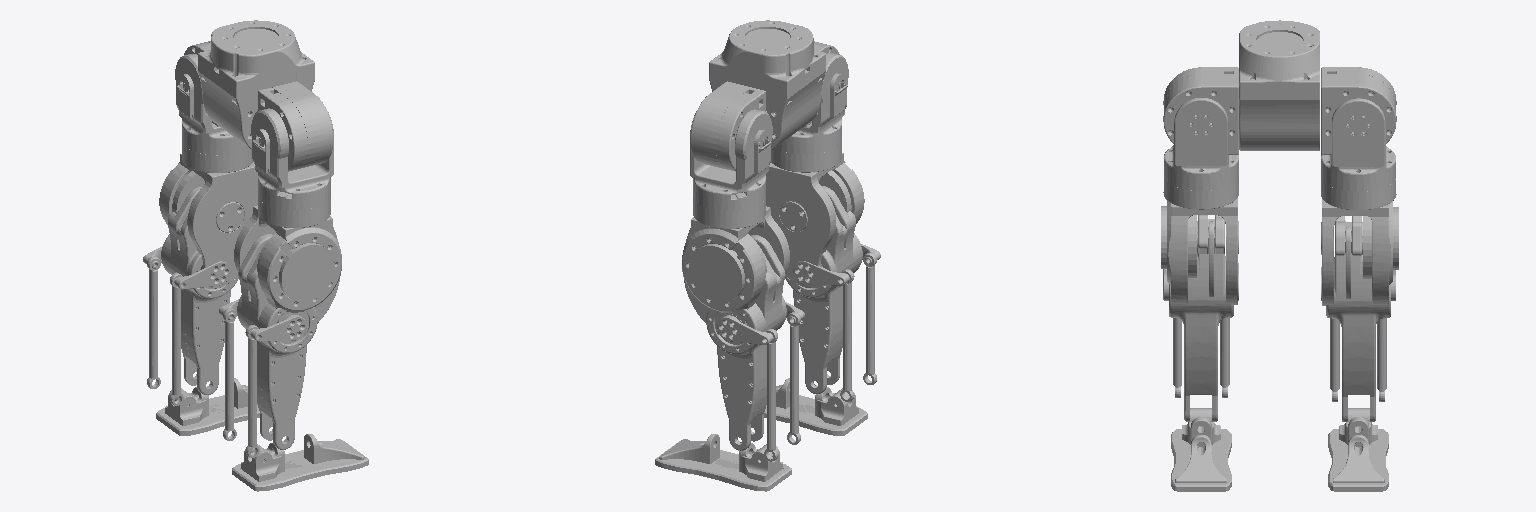
robot.urdf — QUB:
<?xml version="1.0" encoding="utf-8"?>
<!-- This URDF was automatically created by SolidWorks to URDF Exporter! Originally created by Stephen Brawner (brawner@gmail.com) 
     Commit Version: 1.6.0-4-g7f85cfe  Build Version: 1.6.7995.38578
     For more information, please see http://wiki.ros.org/sw_urdf_exporter -->
<robot
  name="QUB">
  <link name="base_link">
    <inertial>
      <origin
        xyz="0.0001 -0.00145 -0.00018"
        rpy="0 0 0" />
      <mass
        value="4.21449" />
      <inertia
        ixx="0.048051"
        ixy="0.000022089"
        ixz="-0.000049922"
        iyy="0.041201"
        iyz="0.0014077"
        izz="0.021693" />
    </inertial>
    <visual>
      <origin
        xyz="0 0 0"
        rpy="0 0 0" />
      <geometry>
        <mesh
          filename="../meshes/base_link.STL" />
      </geometry>
      <material name="">
        <color
          rgba="0.752941176470588 0.752941176470588 0.752941176470588 1" />
      </material>
    </visual>
    <!-- <collision>
      <origin
        xyz="0.0 -0.0001 0.0194"
        rpy="0 0 0" />
      <geometry>
        <box
          size="0.140 0.200 0.279" />
      </geometry>
    </collision> -->
  </link>
  <link name="pelvis_link">
    <inertial>
      <origin
        xyz="-0.00036 0.00024 0.03233"
        rpy="0 0 0" />
      <mass
        value="3.69660" />
      <inertia
        ixx="0.012187"
        ixy="-0.000011794"
        ixz="-0.000096093"
        iyy="0.011785"
        iyz="0.0000034329"
        izz="0.0075662" />
    </inertial>
    <visual>
      <origin
        xyz="0 0 0"
        rpy="0 0 0" />
      <geometry>
        <mesh
          filename="../meshes/pelvis_link.STL" />
      </geometry>
      <material name="">
        <color
          rgba="0.752941176470588 0.752941176470588 0.752941176470588 1" />
      </material>
    </visual>
    <collision>
      <origin
        xyz="0 0 0"
        rpy="0 0 0" />
      <geometry>
        <mesh
          filename="../meshes/collision/pelvis_link.STL" />
      </geometry>
    </collision>
  </link>
  <joint name="torso_yaw_joint" type="revolute">
    <origin
      xyz="0 0 -0.241618109476686"
      rpy="0 0 0" />
    <parent link="base_link" />
    <child link="pelvis_link" />
    <axis
      xyz="0 0 1" />
    <limit
      lower="-0.7854"
      upper="0.7854"
      effort="60"
      velocity="5.0" />
  </joint>
  <link name="R_hip_r_link">
    <inertial>
      <origin
        xyz="0.00347 0.00277 -0.00048"
        rpy="0 0 0" />
      <mass
        value="1.24854" />
      <inertia
        ixx="0.0018401"
        ixy="-0.00000032265"
        ixz="0.0000071076"
        iyy="0.0013999"
        iyz="0.000010876"
        izz="0.0013711" />
    </inertial>
    <visual>
      <origin
        xyz="0 0 0"
        rpy="0 0 0" />
      <geometry>
        <mesh
          filename="../meshes/R_hip_r_link.STL" />
      </geometry>
      <material name="">
        <color
          rgba="0.752941176470588 0.752941176470588 0.752941176470588 1" />
      </material>
    </visual>
    <collision>
      <origin
        xyz="0 0 0"
        rpy="0 0 0" />
      <geometry>
        <mesh
          filename="../meshes/collision/R_hip_r_link.STL" />
      </geometry>
    </collision>
  </link>
  <joint name="R_hip_pitch_joint" type="revolute">
    <origin
      xyz="0 -0.115900000000167 0"
      rpy="0 0 0" />
    <parent link="pelvis_link" />
    <child link="R_hip_r_link" />
    <axis
      xyz="0 1 0" />
    <limit
      lower="-1.5708"
      upper="0.5236"
      effort="60"
      velocity="5.0" />
  </joint>
  <link name="R_hip_y_link">
    <inertial>
      <origin
        xyz="-0.00135 -0.00025 -0.09201"
        rpy="0 0 0" />
      <mass
        value="1.32879" />
      <inertia
        ixx="0.0024344"
        ixy="0.000013039"
        ixz="-0.00013352"
        iyy="0.0027093"
        iyz="-0.000022509"
        izz="0.0019780" />
    </inertial>
    <visual>
      <origin
        xyz="0 0 0"
        rpy="0 0 0" />
      <geometry>
        <mesh
          filename="../meshes/R_hip_y_link.STL" />
      </geometry>
      <material name="">
        <color
          rgba="0.752941176470588 0.752941176470588 0.752941176470588 1" />
      </material>
    </visual>
    <collision>
      <origin
        xyz="0 0 0"
        rpy="0 0 0" />
      <geometry>
        <mesh
          filename="../meshes/collision/R_hip_y_link.STL" />
      </geometry>
    </collision>
  </link>
  <joint name="R_hip_roll_joint" type="revolute">
    <origin
      xyz="0 0 0"
      rpy="0 0 0" />
    <parent link="R_hip_r_link" />
    <child link="R_hip_y_link" />
    <axis
      xyz="1 0 0" />
    <limit
      lower="-2.4"
      upper="0"
      effort="60"
      velocity="5.0" />
  </joint>
  <link name="R_thigh_link">
    <inertial>
      <origin
        xyz="-0.00659 -0.01600 -0.00218"
        rpy="0 0 0" />
      <mass
        value="2.18164" />
      <inertia
        ixx="0.0052252"
        ixy="0.00017617"
        ixz="0.000090039"
        iyy="0.0051854"
        iyz="-0.000055426"
        izz="0.0040697" />
    </inertial>
    <visual>
      <origin
        xyz="0 0 0"
        rpy="0 0 0" />
      <geometry>
        <mesh
          filename="../meshes/R_thigh_link.STL" />
      </geometry>
      <material name="">
        <color
          rgba="0.752941176470588 0.752941176470588 0.752941176470588 1" />
      </material>
    </visual>
    <collision>
      <origin
        xyz="0 0 0"
        rpy="0 0 0" />
      <geometry>
        <mesh
          filename="../meshes/collision/R_thigh_link.STL" />
      </geometry>
    </collision>
  </link>
  <joint name="R_hip_yaw_joint" type="revolute">
    <origin
      xyz="0 0 -0.211750000000001"
      rpy="0 0 0" />
    <parent link="R_hip_y_link" />
    <child link="R_thigh_link" />
    <axis
      xyz="0 0 1" />
    <limit
      lower="-0.5236"
      upper="0.5236"
      effort="60"
      velocity="5.0" />
  </joint>
  <link name="R_calf_link">
    <inertial>
      <origin
        xyz="0.01269 0.00090 -0.10244"
        rpy="0 0 0" />
      <mass
        value="1.97157" />
      <inertia
        ixx="0.011151"
        ixy="0.000015627"
        ixz="0.0019738"
        iyy="0.011825"
        iyz="0.00018350"
        izz="0.0038490" />
    </inertial>
    <visual>
      <origin
        xyz="0 0 0"
        rpy="0 0 0" />
      <geometry>
        <mesh
          filename="../meshes/R_calf_link.STL" />
      </geometry>
      <material name="">
        <color
          rgba="0.752941176470588 0.752941176470588 0.752941176470588 1" />
      </material>
    </visual>
    <collision>
      <origin
        xyz="0 0 0"
        rpy="0 0 0" />
      <geometry>
        <mesh
          filename="../meshes/collision/R_calf_link.STL" />
      </geometry>
    </collision>
  </link>
  <joint name="R_knee_pitch_joint" type="revolute">
    <origin
      xyz="-0.0297924314284872 -0.000149999999114303 -0.0900000000000005"
      rpy="0 0 0" />
    <parent link="R_thigh_link" />
    <child link="R_calf_link" />
    <axis
      xyz="0 -1 0" />
    <limit
      lower="-1.9"
      upper="0.0"
      effort="120"
      velocity="5.0" />
  </joint>
  <link name="R_ankle_link">
    <inertial>
      <origin
        xyz="0.0 0.0 -0.00007"
        rpy="0 0 0" />
      <mass
        value="0.02200" />
      <inertia
        ixx="1.99627E-06"
        ixy="0.0"
        ixz="0.0"
        iyy="4.89237E-06"
        iyz="0.0"
        izz="5.28341E-06" />
    </inertial>
    <visual>
      <origin
        xyz="0 0 0"
        rpy="0 0 0" />
      <geometry>
        <mesh
          filename="../meshes/R_ankle_link.STL" />
      </geometry>
      <material name="">
        <color
          rgba="0.698039215686274 0.698039215686274 0.698039215686274 1" />
      </material>
    </visual>
    <collision>
      <origin
        xyz="0 0 0"
        rpy="0 0 0" />
      <geometry>
        <mesh
          filename="../meshes/collision/R_ankle_link.STL" />
      </geometry>
    </collision>
  </link>
  <joint name="R_ankle_pitch_joint" type="revolute">
    <origin
      xyz="0.0299999999901397 0.000150000000093992 -0.26800000000117"
      rpy="0 0 0" />
    <parent link="R_calf_link" />
    <child link="R_ankle_link" />
    <axis
      xyz="0 -1 0" />
    <limit
      lower="-0.5236"
      upper="0.7854"
      effort="17"
      velocity="5.0" />
  </joint>
  <link name="R_foot_link">
    <inertial>
      <origin
        xyz="0.00315 0.0 -0.02405"
        rpy="0 0 0" />
      <mass
        value="0.25200" />
      <inertia
        ixx="0.00013745"
        ixy="0.0"
        ixz="-0.000044769"
        iyy="0.00091295"
        iyz="0.0"
        izz="0.00097384" />
    </inertial>
    <visual>
      <origin
        xyz="0 0 0"
        rpy="0 0 0" />
      <geometry>
        <mesh
          filename="../meshes/R_foot_link.STL" />
      </geometry>
      <material name="">
        <color
          rgba="0.752941176470588 0.752941176470588 0.752941176470588 1" />
      </material>
    </visual>
    <collision>
      <origin
        xyz="0 0 0"
        rpy="0 0 0" />
      <geometry>
        <mesh
          filename="../meshes/collision/R_foot_link.STL" />
      </geometry>
    </collision>
  </link>
  <joint name="R_ankle_roll_joint" type="revolute">
    <origin
      xyz="0 0 0"
      rpy="0 0 0" />
    <parent link="R_ankle_link" />
    <child link="R_foot_link" />
    <axis
      xyz="1 0 0" />
    <limit
      lower="-0.3491"
      upper="0.3491"
      effort="17"
      velocity="5.0" />
  </joint>
  <link name="L_hip_r_link">
    <inertial>
      <origin
        xyz="0.00347 -0.00277 -0.00048"
        rpy="0 0 0" />
      <mass
        value="1.24854" />
      <inertia
        ixx="0.0018401"
        ixy="0.00000032265"
        ixz="0.0000071076"
        iyy="0.0013999"
        iyz="-0.000010876"
        izz="0.0013711" />
    </inertial>
    <visual>
      <origin
        xyz="0 0 0"
        rpy="0 0 0" />
      <geometry>
        <mesh
          filename="../meshes/L_hip_r_link.STL" />
      </geometry>
      <material name="">
        <color
          rgba="0.752941176470588 0.752941176470588 0.752941176470588 1" />
      </material>
    </visual>
    <collision>
      <origin
        xyz="0 0 0"
        rpy="0 0 0" />
      <geometry>
        <mesh
          filename="../meshes/collision/L_hip_r_link.STL" />
      </geometry>
    </collision>
  </link>
  <joint name="L_hip_pitch_joint" type="revolute">
    <origin
      xyz="0 0.116500000000629 0"
      rpy="0 0 0" />
    <parent link="pelvis_link" />
    <child link="L_hip_r_link" />
    <axis
      xyz="0 1 0" />
    <limit
      lower="-1.5708"
      upper="0.5236"
      effort="60"
      velocity="5.0" />
  </joint>
  <link name="L_hip_y_link">
    <inertial>
      <origin
        xyz="-0.00135 0.00025 -0.09201"
        rpy="0 0 0" />
      <mass
        value="1.32879" />
      <inertia
        ixx="0.0024344"
        ixy="-0.000013039"
        ixz="-0.00013352"
        iyy="0.0027093"
        iyz="0.000022509"
        izz="0.0019780" />
    </inertial>
    <visual>
      <origin
        xyz="0 0 0"
        rpy="0 0 0" />
      <geometry>
        <mesh
          filename="../meshes/L_hip_y_link.STL" />
      </geometry>
      <material name="">
        <color
          rgba="0.752941176470588 0.752941176470588 0.752941176470588 1" />
      </material>
    </visual>
    <collision>
      <origin
        xyz="0 0 0"
        rpy="0 0 0" />
      <geometry>
        <mesh
          filename="../meshes/collision/L_hip_y_link.STL" />
      </geometry>
    </collision>
  </link>
  <joint name="L_hip_roll_joint" type="revolute">
    <origin
      xyz="0 0 0"
      rpy="0 0 0" />
    <parent link="L_hip_r_link" />
    <child link="L_hip_y_link" />
    <axis
      xyz="1 0 0" />
    <limit
      lower="0"
      upper="2.4"
      effort="60"
      velocity="5.0" />
  </joint>
  <link name="L_thigh_link">
    <inertial>
      <origin
        xyz="-0.00659 0.01600 -0.00218"
        rpy="0 0 0" />
      <mass
        value="2.18164" />
      <inertia
        ixx="0.0052252"
        ixy="-0.00017617"
        ixz="0.000090039"
        iyy="0.0051854"
        iyz="0.000055426"
        izz="0.0040697" />
    </inertial>
    <visual>
      <origin
        xyz="0 0 0"
        rpy="0 0 0" />
      <geometry>
        <mesh
          filename="../meshes/L_thigh_link.STL" />
      </geometry>
      <material name="">
        <color
          rgba="0.752941176470588 0.752941176470588 0.752941176470588 1" />
      </material>
    </visual>
    <collision>
      <origin
        xyz="0 0 0"
        rpy="0 0 0" />
      <geometry>
        <mesh
          filename="../meshes/collision/L_thigh_link.STL" />
      </geometry>
    </collision>
  </link>
  <joint name="L_hip_yaw_joint" type="revolute">
    <origin
      xyz="0 0 -0.211750000000039"
      rpy="0 0 0" />
    <parent link="L_hip_y_link" />
    <child link="L_thigh_link" />
    <axis
      xyz="0 0 1" />
    <limit
      lower="-0.5236"
      upper="0.5236"
      effort="60"
      velocity="5.0" />
  </joint>
  <link name="L_calf_link">
    <inertial>
      <origin
        xyz="0.01269 -0.00090 -0.10244"
        rpy="0 0 0" />
      <mass
        value="1.97157" />
      <inertia
        ixx="0.011151"
        ixy="-0.000015627"
        ixz="0.0019738"
        iyy="0.011825"
        iyz="-0.00018350"
        izz="0.0038490" />
    </inertial>
    <visual>
      <origin
        xyz="0 0 0"
        rpy="0 0 0" />
      <geometry>
        <mesh
          filename="../meshes/L_calf_link.STL" />
      </geometry>
      <material name="">
        <color
          rgba="0.752941176470588 0.752941176470588 0.752941176470588 1" />
      </material>
    </visual>
    <collision>
      <origin
        xyz="0 0 0"
        rpy="0 0 0" />
      <geometry>
        <mesh
          filename="../meshes/collision/L_calf_link.STL" />
      </geometry>
    </collision>
  </link>
  <joint name="L_knee_pitch_joint" type="revolute">
    <origin
      xyz="-0.0297924314283908 -0.00015000000003787 -0.0900000000000123"
      rpy="0 0 0" />
    <parent link="L_thigh_link" />
    <child link="L_calf_link" />
    <axis
      xyz="0 -1 0" />
    <limit
      lower="-1.9"
      upper="0.0"
      effort="120"
      velocity="5.0" />
  </joint>
  <link name="L_ankle_link">
    <inertial>
      <origin
        xyz="0.0 0.0 -0.00007"
        rpy="0 0 0" />
      <mass
        value="0.02200" />
      <inertia
        ixx="1.99627E-06"
        ixy="0.0"
        ixz="0.0"
        iyy="4.89237E-06"
        iyz="0.0"
        izz="5.28341E-06" />
    </inertial>
    <visual>
      <origin
        xyz="0 0 0"
        rpy="0 0 0" />
      <geometry>
        <mesh
          filename="../meshes/L_ankle_link.STL" />
      </geometry>
      <material name="">
        <color
          rgba="0.698039215686274 0.698039215686274 0.698039215686274 1" />
      </material>
    </visual>
    <collision>
      <origin
        xyz="0 0 0"
        rpy="0 0 0" />
      <geometry>
        <mesh
          filename="../meshes/collision/L_ankle_link.STL" />
      </geometry>
    </collision>
  </link>
  <joint name="L_ankle_pitch_joint" type="revolute">
    <origin
      xyz="0.0300000000000302 0.000150000000055842 -0.267999999998874"
      rpy="0 0 0" />
    <parent link="L_calf_link" />
    <child link="L_ankle_link" />
    <axis
      xyz="0 1 0" />
    <limit
      lower="-0.5236"
      upper="0.7854"
      effort="17"
      velocity="5.0" />
  </joint>
  <link name="L_foot_link">
    <inertial>
      <origin
        xyz="0.00315 0.0 -0.02405"
        rpy="0 0 0" />
      <mass
        value="0.25200" />
      <inertia
        ixx="0.00013745"
        ixy="0.0"
        ixz="-0.000044769"
        iyy="0.00091295"
        iyz="0.0"
        izz="0.00097384" />
    </inertial>
    <visual>
      <origin
        xyz="0 0 0"
        rpy="0 0 0" />
      <geometry>
        <mesh
          filename="../meshes/L_foot_link.STL" />
      </geometry>
      <material name="">
        <color
          rgba="0.752941176470588 0.752941176470588 0.752941176470588 1" />
      </material>
    </visual>
    <collision>
      <origin
        xyz="0 0 0"
        rpy="0 0 0" />
      <geometry>
        <mesh
          filename="../meshes/collision/L_foot_link.STL" />
      </geometry>
    </collision>
  </link>
  <joint name="L_ankle_roll_joint" type="revolute">
    <origin
      xyz="0 0 0"
      rpy="0 0 0" />
    <parent link="L_ankle_link" />
    <child link="L_foot_link" />
    <axis
      xyz="1 0 0" />
    <limit
      lower="-0.3491"
      upper="0.3491"
      effort="17"
      velocity="5.0" />
  </joint>
</robot>

--- Render facts (derived) ---
3 views of the same robot in one strip: view 1: azimuth 30°, elevation 25°; view 2: azimuth 150°, elevation 25°; view 3: azimuth 270°, elevation 25° (orthographic).
Model QUB with 14 links and 13 joints (13 revolute), rooted at base_link, posed every joint at zero.
Visible links, largest first — view 1: R_calf_link, L_calf_link, pelvis_link, R_thigh_link, L_thigh_link, R_hip_y_link, L_hip_y_link, R_foot_link, R_hip_r_link, L_foot_link; view 2: L_calf_link, R_calf_link, pelvis_link, L_thigh_link, R_thigh_link, L_hip_y_link, R_hip_y_link, L_foot_link, L_hip_r_link, R_foot_link; view 3: pelvis_link, L_calf_link, R_calf_link, L_hip_y_link, R_hip_y_link, R_thigh_link, L_thigh_link, R_foot_link, L_foot_link, L_hip_r_link, R_hip_r_link.
Boxes of the visible links, left/top/right/bottom form: R_calf_link: left=219, top=234, right=317, bottom=457; L_calf_link: left=143, top=187, right=238, bottom=405; pelvis_link: left=198, top=20, right=314, bottom=149; R_thigh_link: left=234, top=205, right=341, bottom=333; L_thigh_link: left=159, top=154, right=257, bottom=288; R_hip_y_link: left=251, top=107, right=333, bottom=227; L_hip_y_link: left=175, top=54, right=252, bottom=172; R_foot_link: left=232, top=434, right=368, bottom=491; R_hip_r_link: left=258, top=81, right=332, bottom=171; L_foot_link: left=156, top=378, right=259, bottom=435; L_calf_link: left=706, top=235, right=804, bottom=461; R_calf_link: left=785, top=186, right=880, bottom=401; pelvis_link: left=709, top=20, right=825, bottom=150; L_thigh_link: left=682, top=206, right=789, bottom=334; R_thigh_link: left=766, top=153, right=864, bottom=287; L_hip_y_link: left=690, top=109, right=772, bottom=228; R_hip_y_link: left=771, top=53, right=848, bottom=172; L_foot_link: left=655, top=434, right=791, bottom=491; L_hip_r_link: left=690, top=81, right=765, bottom=171; R_foot_link: left=764, top=378, right=867, bottom=435; pelvis_link: left=1239, top=20, right=1319, bottom=150; L_calf_link: left=1321, top=216, right=1395, bottom=421; R_calf_link: left=1163, top=215, right=1238, bottom=421; L_hip_y_link: left=1321, top=98, right=1396, bottom=209; R_hip_y_link: left=1163, top=98, right=1238, bottom=209; R_thigh_link: left=1161, top=198, right=1238, bottom=304; L_thigh_link: left=1321, top=199, right=1398, bottom=305; R_foot_link: left=1171, top=408, right=1231, bottom=491; L_foot_link: left=1328, top=408, right=1388, bottom=491; L_hip_r_link: left=1321, top=67, right=1396, bottom=154; R_hip_r_link: left=1163, top=67, right=1238, bottom=154.
Size in the robot's own frame: 0.215 by 0.3508 by 0.6947 metres.
13 mesh visuals loaded from 14 distinct referenced files (13 binary STL); not drawn: 1 (reference not matched to a file when rendering).
